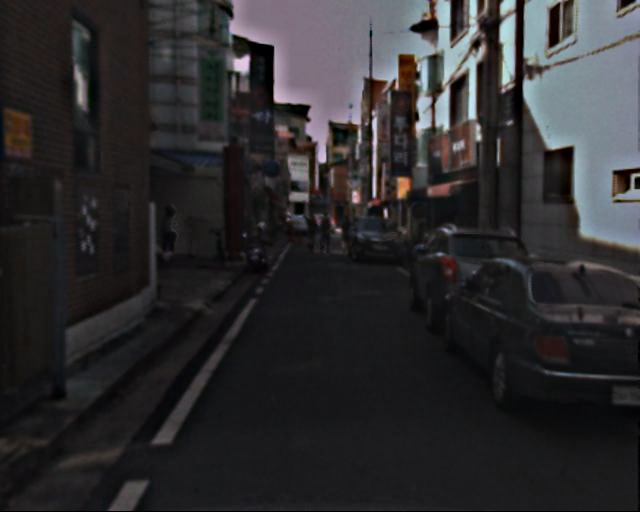person: (159, 202, 185, 265), (340, 212, 358, 257), (304, 209, 322, 254), (318, 211, 336, 255)
